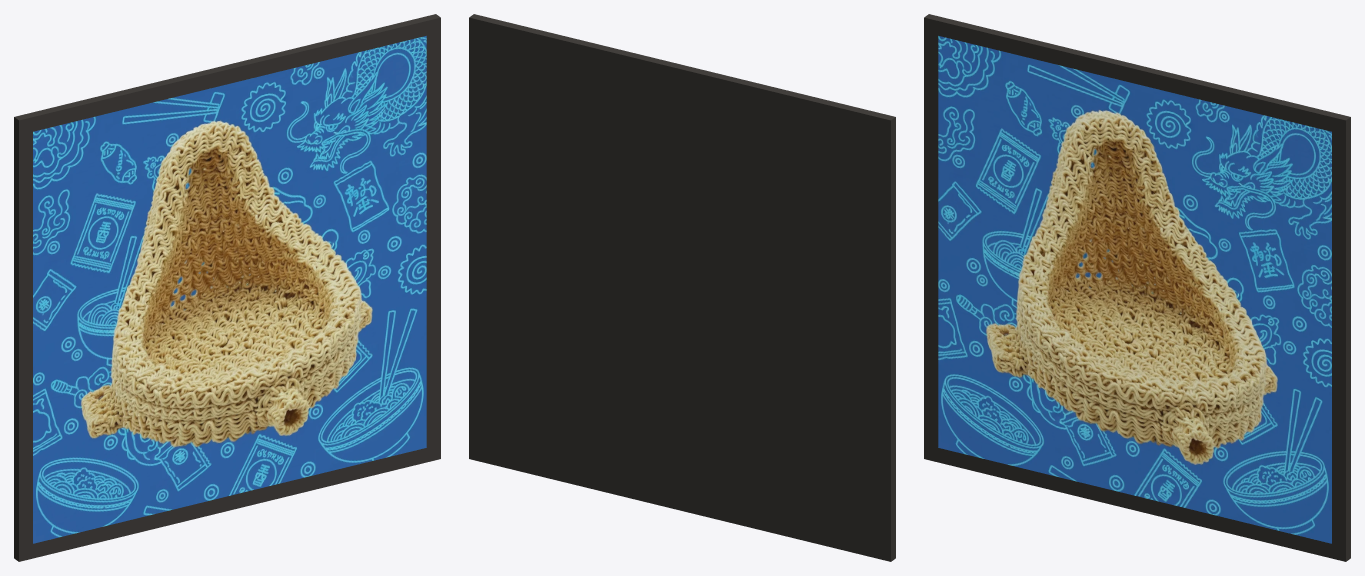
Rendered from picture_10_interlinked.glb.
The picture shows the model from 3 angles, left to right: view 1: azimuth 30°, elevation 25°; view 2: azimuth 150°, elevation 25°; view 3: azimuth 330°, elevation 25°; orthographic projection.
Visible parts, largest first — view 1: picture_10_interlinked_nocol; view 2: picture_10_interlinked_nocol; view 3: picture_10_interlinked_nocol.
Part boxes in pixels (x1,y1,x2,y2): picture_10_interlinked_nocol: [14, 14, 440, 561]; picture_10_interlinked_nocol: [469, 14, 895, 561]; picture_10_interlinked_nocol: [924, 14, 1350, 561].
Bounding box in the file's own units: 1.5 × 1.5 × 0.03.
2 materials, 1 textured.
